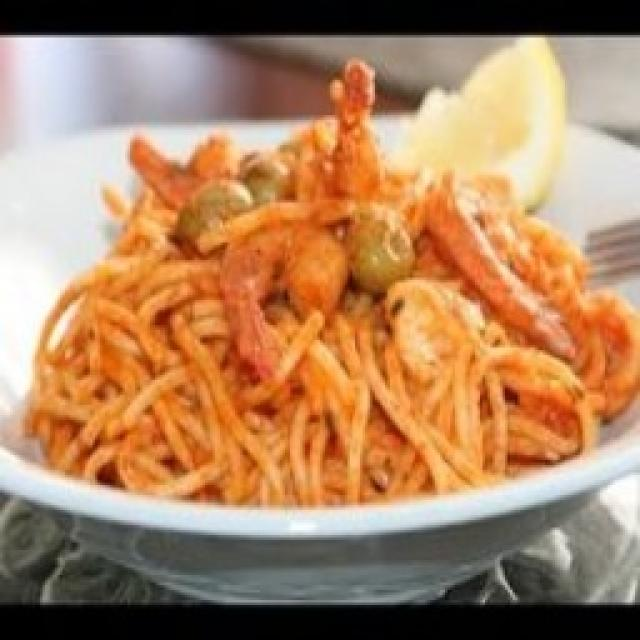Pasta: (10, 62, 640, 510)
